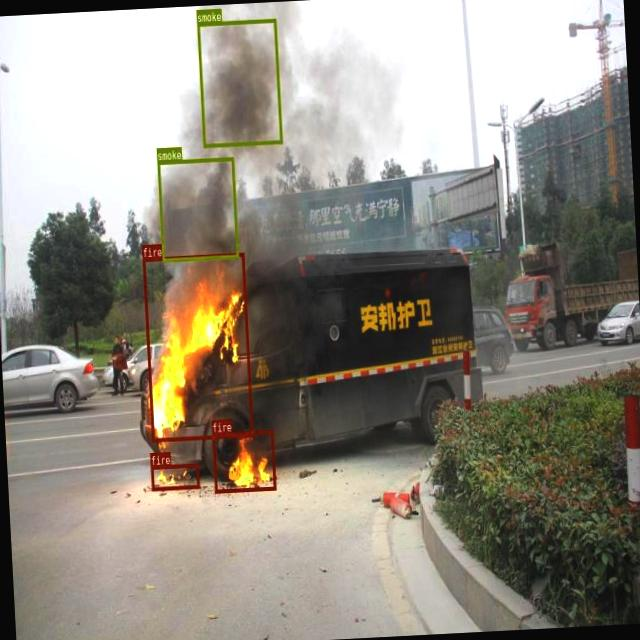fire: (142, 253, 252, 441), (212, 429, 276, 492), (150, 463, 200, 490)
smoke: (197, 18, 282, 147), (158, 157, 238, 261)
